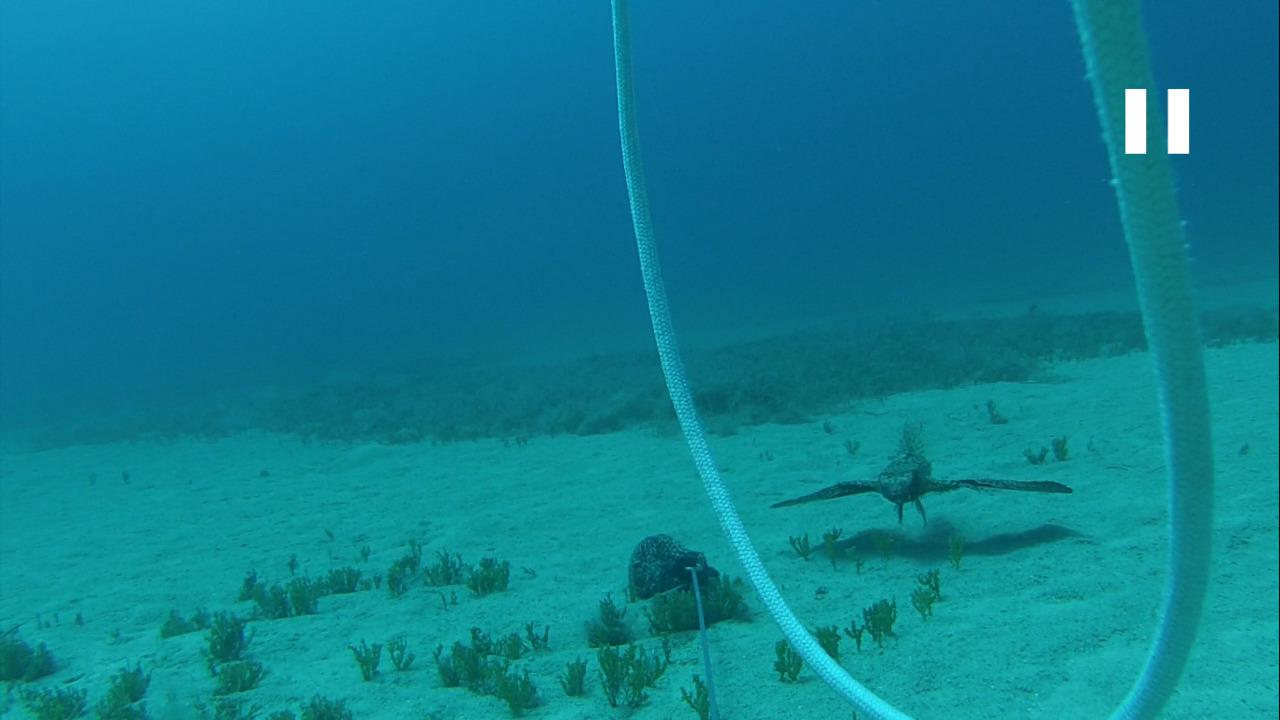dactylopterus: (767, 417, 1075, 512)
